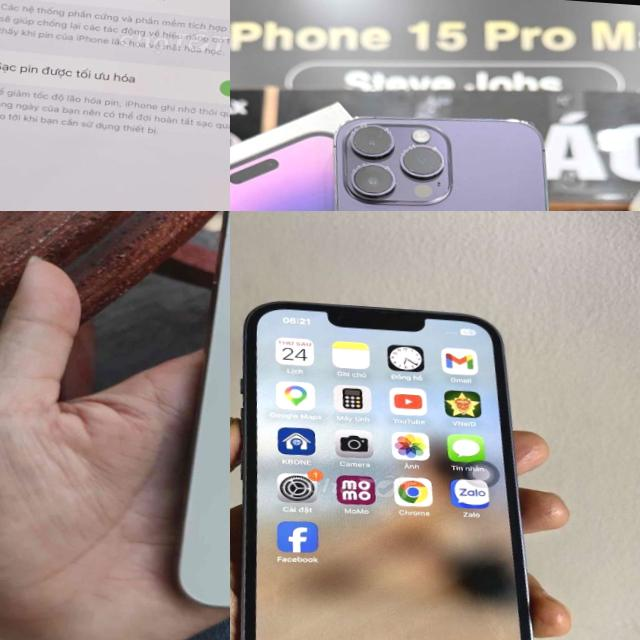gen_12_13: (0, 0, 230, 211), (176, 211, 230, 629)
gen_14: (230, 280, 571, 640), (304, 99, 599, 211)
